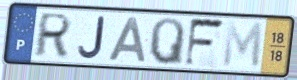A: (106, 15, 148, 64)
F: (182, 17, 227, 70)
J: (76, 15, 106, 61)
M: (221, 19, 265, 71)
Q: (148, 16, 187, 68)
R: (31, 12, 74, 59)
